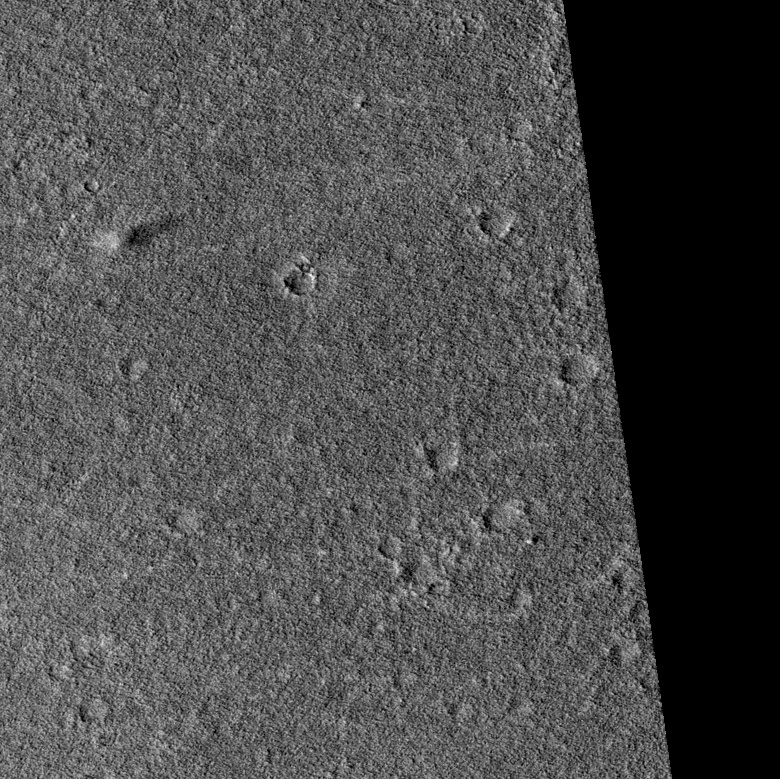dust_devil: (92, 213, 187, 254)
